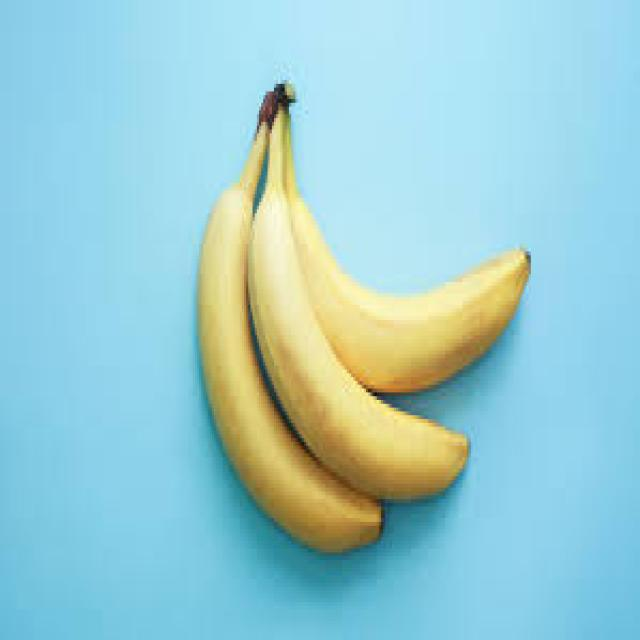banana: (194, 74, 529, 547)
